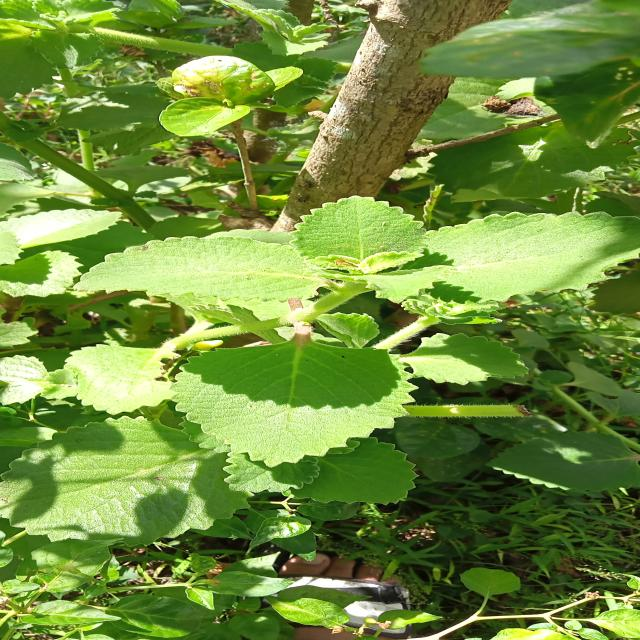Oregano: (62, 141, 640, 510), (59, 201, 534, 477), (185, 118, 640, 363), (274, 172, 500, 298)
